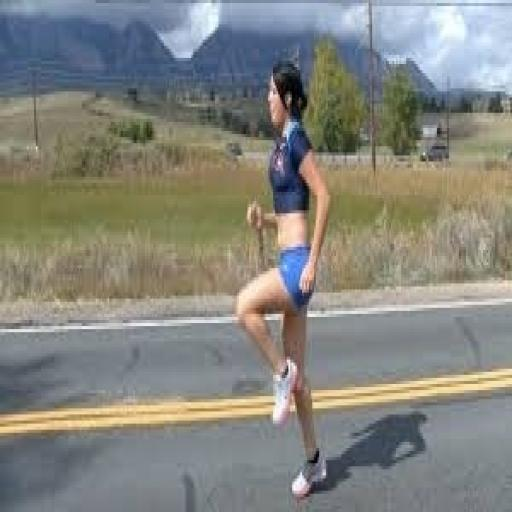running: (232, 55, 333, 503)
